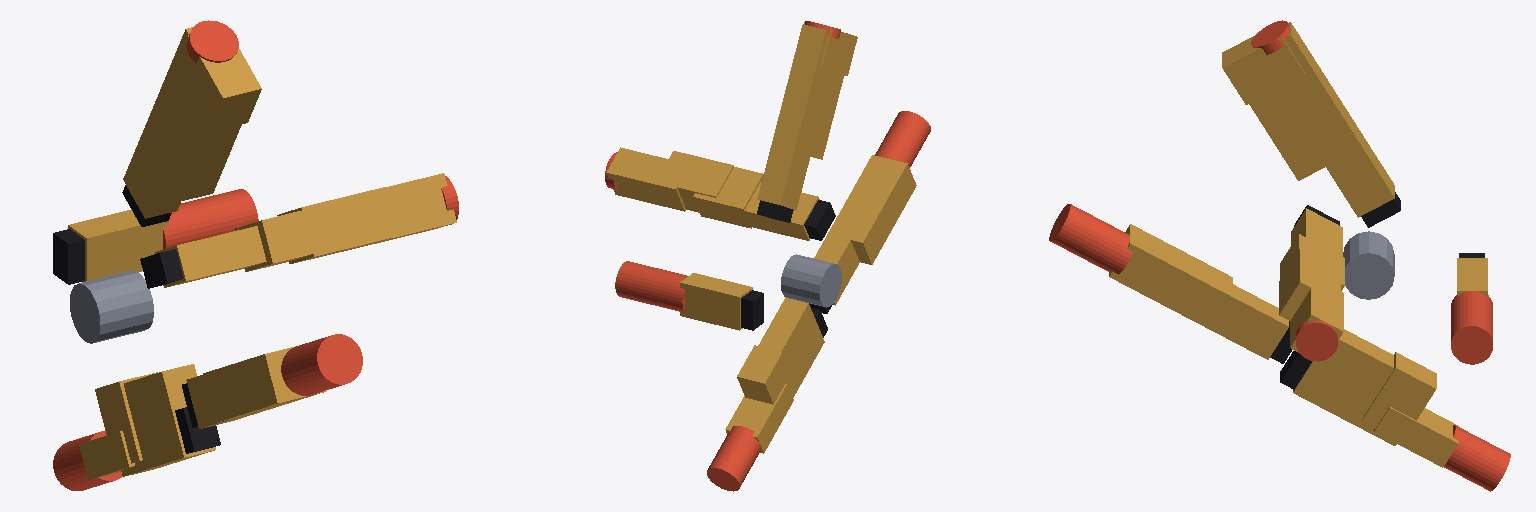
URDF robot description (g0009_c06):
<robot name="g0009_c06">
  <link name="palm">
    <visual name="palm_palm1">
      <origin xyz="0 0 0" rpy="0 0 0" />
      <geometry>
        <mesh filename="palm_palm1.obj" />
      </geometry>
      <material name="palm_palm1_mat">
        <color rgba="0.55 0.57 0.62 1" />
      </material>
    </visual>
    <collision>
      <origin xyz="0 0 0" rpy="0 0 0" />
      <geometry>
        <mesh filename="palm_palm1.obj" />
      </geometry>
    </collision>
    <visual name="palm_mount2">
      <origin xyz="0 0 0" rpy="0 0 0" />
      <geometry>
        <mesh filename="palm_mount2.obj" />
      </geometry>
      <material name="palm_mount2_mat">
        <color rgba="0.55 0.57 0.62 1" />
      </material>
    </visual>
    <collision>
      <origin xyz="0 0 0" rpy="0 0 0" />
      <geometry>
        <mesh filename="palm_mount2.obj" />
      </geometry>
    </collision>
    <visual name="palm_motor3">
      <origin xyz="0 -0.0735048095 -0.04375" rpy="-1.57079633 -1.04719755 1.57079633" />
      <geometry>
        <box size="0.029 0.034 0.02" />
      </geometry>
      <material name="palm_motor3_mat">
        <color rgba="0.15 0.15 0.17 1" />
      </material>
    </visual>
    <collision>
      <origin xyz="0 -0.0735048095 -0.04375" rpy="-1.57079633 -1.04719755 1.57079633" />
      <geometry>
        <box size="0.029 0.034 0.02" />
      </geometry>
    </collision>
    <visual name="palm_motor4">
      <origin xyz="0 -0.0464951905 -0.07625" rpy="1.57079633 1.04719755 -1.57079633" />
      <geometry>
        <box size="0.029 0.034 0.02" />
      </geometry>
      <material name="palm_motor4_mat">
        <color rgba="0.15 0.15 0.17 1" />
      </material>
    </visual>
    <collision>
      <origin xyz="0 -0.0464951905 -0.07625" rpy="1.57079633 1.04719755 -1.57079633" />
      <geometry>
        <box size="0.029 0.034 0.02" />
      </geometry>
    </collision>
    <visual name="palm_motor5">
      <origin xyz="-0.007 -0.04 0.04" rpy="-3.5352508e-17 0.523598776 1.57079633" />
      <geometry>
        <box size="0.029 0.034 0.02" />
      </geometry>
      <material name="palm_motor5_mat">
        <color rgba="0.15 0.15 0.17 1" />
      </material>
    </visual>
    <collision>
      <origin xyz="-0.007 -0.04 0.04" rpy="-3.5352508e-17 0.523598776 1.57079633" />
      <geometry>
        <box size="0.029 0.034 0.02" />
      </geometry>
    </collision>
    <visual name="palm_motor6">
      <origin xyz="0 0.00375 0.0735048095" rpy="-1.57079633 -0.523598776 1.57079633" />
      <geometry>
        <box size="0.029 0.034 0.02" />
      </geometry>
      <material name="palm_motor6_mat">
        <color rgba="0.15 0.15 0.17 1" />
      </material>
    </visual>
    <collision>
      <origin xyz="0 0.00375 0.0735048095" rpy="-1.57079633 -0.523598776 1.57079633" />
      <geometry>
        <box size="0.029 0.034 0.02" />
      </geometry>
    </collision>
    <visual name="palm_motor7">
      <origin xyz="-0.007 0.08 4.5924255e-19" rpy="1.57079633 -1.57079633 0" />
      <geometry>
        <box size="0.029 0.034 0.02" />
      </geometry>
      <material name="palm_motor7_mat">
        <color rgba="0.15 0.15 0.17 1" />
      </material>
    </visual>
    <collision>
      <origin xyz="-0.007 0.08 4.5924255e-19" rpy="1.57079633 -1.57079633 0" />
      <geometry>
        <box size="0.029 0.034 0.02" />
      </geometry>
    </collision>
    <inertial>
      <origin xyz="2.66907777e-19 -0.00514490469 -0.00359255006" rpy="-1.57079633 0.787043614 -1.57079633" />
      <mass value="0.925605386" />
      <inertia ixx="0.00129830695" ixy="0" ixz="0" iyy="0.00232753521" iyz="0" izz="0.00353698405" />
    </inertial>
  </link>
  <link name="f0_link0">
    <visual name="f0_link0_link1">
      <origin xyz="0.02375 0 0" rpy="0 7.03853194e-17 0" />
      <geometry>
        <box size="0.0715 0.024 0.033" />
      </geometry>
      <material name="f0_link0_link1_mat">
        <color rgba="0.80 0.62 0.30 1" />
      </material>
    </visual>
    <collision>
      <origin xyz="0.02375 0 0" rpy="0 7.03853194e-17 0" />
      <geometry>
        <box size="0.0715 0.024 0.033" />
      </geometry>
    </collision>
    <inertial>
      <origin xyz="0.02375 0 0" rpy="0 0 0" />
      <mass value="0.099099" />
      <inertia ixx="1.37499863e-05" ixy="0" ixz="0" iyy="5.12114728e-05" iyz="0" izz="4.69749906e-05" />
    </inertial>
  </link>
  <link name="f0_link1">
    <visual name="f0_link1_link1">
      <origin xyz="0.014 -0.00625 0" rpy="0 7.03853194e-17 0" />
      <geometry>
        <box size="0.052 0.0365 0.033" />
      </geometry>
      <material name="f0_link1_link1_mat">
        <color rgba="0.80 0.62 0.30 1" />
      </material>
    </visual>
    <collision>
      <origin xyz="0.014 -0.00625 0" rpy="0 7.03853194e-17 0" />
      <geometry>
        <box size="0.052 0.0365 0.033" />
      </geometry>
    </collision>
    <inertial>
      <origin xyz="0.014 -0.00625 0" rpy="0 0 0" />
      <mass value="0.1096095" />
      <inertia ixx="2.21160002e-05" ixy="0" ixz="0" iyy="3.46457361e-05" iyz="0" izz="3.6867612e-05" />
    </inertial>
  </link>
  <link name="f0_link2">
    <visual name="f0_link2_link1">
      <origin xyz="0.019 -0.00625 -1.38777878e-17" rpy="0 7.03853194e-17 0" />
      <geometry>
        <box size="0.062 0.0365 0.033" />
      </geometry>
      <material name="f0_link2_link1_mat">
        <color rgba="0.80 0.62 0.30 1" />
      </material>
    </visual>
    <collision>
      <origin xyz="0.019 -0.00625 -1.38777878e-17" rpy="0 7.03853194e-17 0" />
      <geometry>
        <box size="0.062 0.0365 0.033" />
      </geometry>
    </collision>
    <inertial>
      <origin xyz="0.019 -0.00625 0" rpy="0 0 0" />
      <mass value="0.13068825" />
      <inertia ixx="2.63690771e-05" ixy="0" ixz="0" iyy="5.37237614e-05" iyz="0" izz="5.63729212e-05" />
    </inertial>
  </link>
  <link name="f0_link3">
    <visual name="f0_link3_link1">
      <origin xyz="0.034 0 -1.38777878e-17" rpy="-1.57079633 -0 -1.57079633" />
      <geometry>
        <cylinder radius="0.0165" length="0.059" />
      </geometry>
      <material name="f0_link3_link1_mat">
        <color rgba="0.85 0.35 0.25 1" />
      </material>
    </visual>
    <collision>
      <origin xyz="0.034 0 -1.38777878e-17" rpy="-1.57079633 -0 -1.57079633" />
      <geometry>
        <cylinder radius="0.0165" length="0.059" />
      </geometry>
    </collision>
    <inertial>
      <origin xyz="0.034 0 0" rpy="0 0 0" />
      <mass value="0.121238577" />
      <inertia ixx="1.56071093e-05" ixy="0" ixz="0" iyy="7.58912764e-05" iyz="0" izz="7.58912764e-05" />
    </inertial>
  </link>
  <link name="f1_link0">
    <visual name="f1_link0_link1">
      <origin xyz="0.03375 0 -0.01225" rpy="0 2.57628149e-17 0" />
      <geometry>
        <box size="0.0915 0.024 0.0575" />
      </geometry>
      <material name="f1_link0_link1_mat">
        <color rgba="0.80 0.62 0.30 1" />
      </material>
    </visual>
    <collision>
      <origin xyz="0.03375 0 -0.01225" rpy="0 2.57628149e-17 0" />
      <geometry>
        <box size="0.0915 0.024 0.0575" />
      </geometry>
    </collision>
    <inertial>
      <origin xyz="0.03375 0 -0.01225" rpy="0 0 0" />
      <mass value="0.2209725" />
      <inertia ixx="7.14892073e-05" ixy="0" ixz="0" iyy="0.000215052278" iyz="0" izz="0.000164776431" />
    </inertial>
  </link>
  <link name="f1_link1">
    <visual name="f1_link1_link1">
      <origin xyz="-0.00625 0 -0.0165" rpy="0 2.57628149e-17 0" />
      <geometry>
        <box size="0.0365 0.029 0.053" />
      </geometry>
      <material name="f1_link1_link1_mat">
        <color rgba="0.80 0.62 0.30 1" />
      </material>
    </visual>
    <collision>
      <origin xyz="-0.00625 0 -0.0165" rpy="0 2.57628149e-17 0" />
      <geometry>
        <box size="0.0365 0.029 0.053" />
      </geometry>
    </collision>
    <inertial>
      <origin xyz="-0.00625 0 -0.0165" rpy="0 0 0" />
      <mass value="0.098175875" />
      <inertia ixx="2.98618286e-05" ixy="0" ixz="0" iyy="3.38809035e-05" iyz="0" izz="1.778006e-05" />
    </inertial>
  </link>
  <link name="f1_link2">
    <visual name="f1_link2_link1">
      <origin xyz="0.01875 0 -1.38777878e-17" rpy="0 2.57628149e-17 0" />
      <geometry>
        <box size="0.0615 0.033 0.024" />
      </geometry>
      <material name="f1_link2_link1_mat">
        <color rgba="0.80 0.62 0.30 1" />
      </material>
    </visual>
    <collision>
      <origin xyz="0.01875 0 -1.38777878e-17" rpy="0 2.57628149e-17 0" />
      <geometry>
        <box size="0.0615 0.033 0.024" />
      </geometry>
    </collision>
    <inertial>
      <origin xyz="0.01875 0 0" rpy="0 0 0" />
      <mass value="0.085239" />
      <inertia ixx="1.18269113e-05" ixy="0" ixz="0" iyy="3.09577393e-05" iyz="0" izz="3.46017066e-05" />
    </inertial>
  </link>
  <link name="f1_link3">
    <visual name="f1_link3_link1">
      <origin xyz="0.029 0 0" rpy="-1.57079633 -0 -1.57079633" />
      <geometry>
        <cylinder radius="0.0165" length="0.049" />
      </geometry>
      <material name="f1_link3_link1_mat">
        <color rgba="0.85 0.35 0.25 1" />
      </material>
    </visual>
    <collision>
      <origin xyz="0.029 0 0" rpy="-1.57079633 -0 -1.57079633" />
      <geometry>
        <cylinder radius="0.0165" length="0.049" />
      </geometry>
    </collision>
    <inertial>
      <origin xyz="0.029 0 0" rpy="0 0 0" />
      <mass value="0.106270851" />
      <inertia ixx="1.35696277e-05" ixy="0" ixz="0" iyy="5.30015704e-05" iyz="0" izz="5.30015704e-05" />
    </inertial>
  </link>
  <link name="f2_link0">
    <visual name="f2_link0_link1">
      <origin xyz="0.02875 0 0" rpy="7.03853194e-17 3.16228948e-33 -3.17589773e-34" />
      <geometry>
        <box size="0.0815 0.033 0.024" />
      </geometry>
      <material name="f2_link0_link1_mat">
        <color rgba="0.80 0.62 0.30 1" />
      </material>
    </visual>
    <collision>
      <origin xyz="0.02875 0 0" rpy="7.03853194e-17 3.16228948e-33 -3.17589773e-34" />
      <geometry>
        <box size="0.0815 0.033 0.024" />
      </geometry>
    </collision>
    <inertial>
      <origin xyz="0.02875 0 0" rpy="0 0 0" />
      <mass value="0.112959" />
      <inertia ixx="1.56730613e-05" ixy="0" ixz="0" iyy="6.79471918e-05" iyz="0" izz="7.27761891e-05" />
    </inertial>
  </link>
  <link name="f2_link1">
    <visual name="f2_link1_link1">
      <origin xyz="0.014 -0.004 -1.73472348e-18" rpy="7.03853194e-17 3.16228948e-33 -3.17589773e-34" />
      <geometry>
        <box size="0.052 0.041 0.029" />
      </geometry>
      <material name="f2_link1_link1_mat">
        <color rgba="0.80 0.62 0.30 1" />
      </material>
    </visual>
    <collision>
      <origin xyz="0.014 -0.004 -1.73472348e-18" rpy="7.03853194e-17 3.16228948e-33 -3.17589773e-34" />
      <geometry>
        <box size="0.052 0.041 0.029" />
      </geometry>
    </collision>
    <inertial>
      <origin xyz="0.014 -0.004 0" rpy="0 0 0" />
      <mass value="0.108199" />
      <inertia ixx="2.27398232e-05" ixy="0" ixz="0" iyy="3.19637879e-05" iyz="0" izz="3.95377179e-05" />
    </inertial>
  </link>
  <link name="f2_link2">
    <visual name="f2_link2_link1">
      <origin xyz="0.019 -0.00625 -1.73472348e-18" rpy="7.03853194e-17 3.16228948e-33 -3.17589773e-34" />
      <geometry>
        <box size="0.062 0.0365 0.033" />
      </geometry>
      <material name="f2_link2_link1_mat">
        <color rgba="0.80 0.62 0.30 1" />
      </material>
    </visual>
    <collision>
      <origin xyz="0.019 -0.00625 -1.73472348e-18" rpy="7.03853194e-17 3.16228948e-33 -3.17589773e-34" />
      <geometry>
        <box size="0.062 0.0365 0.033" />
      </geometry>
    </collision>
    <inertial>
      <origin xyz="0.019 -0.00625 0" rpy="0 0 0" />
      <mass value="0.13068825" />
      <inertia ixx="2.63690771e-05" ixy="0" ixz="0" iyy="5.37237614e-05" iyz="0" izz="5.63729212e-05" />
    </inertial>
  </link>
  <link name="f2_link3">
    <visual name="f2_link3_link1">
      <origin xyz="0.02375 0 0" rpy="7.03853194e-17 3.16228948e-33 -3.17589773e-34" />
      <geometry>
        <box size="0.0715 0.029 0.033" />
      </geometry>
      <material name="f2_link3_link1_mat">
        <color rgba="0.80 0.62 0.30 1" />
      </material>
    </visual>
    <collision>
      <origin xyz="0.02375 0 0" rpy="7.03853194e-17 3.16228948e-33 -3.17589773e-34" />
      <geometry>
        <box size="0.0715 0.029 0.033" />
      </geometry>
    </collision>
    <inertial>
      <origin xyz="0.02375 0 0" rpy="0 0 0" />
      <mass value="0.119744625" />
      <inertia ixx="1.92589272e-05" ixy="0" ixz="0" iyy="6.18805296e-05" iyz="0" izz="5.94058074e-05" />
    </inertial>
  </link>
  <link name="f2_link4">
    <visual name="f2_link4_link1">
      <origin xyz="0.009 6.9388939e-18 0" rpy="-1.57079633 -0 -1.57079633" />
      <geometry>
        <cylinder radius="0.0165" length="0.009" />
      </geometry>
      <material name="f2_link4_link1_mat">
        <color rgba="0.85 0.35 0.25 1" />
      </material>
    </visual>
    <collision>
      <origin xyz="0.009 6.9388939e-18 0" rpy="-1.57079633 -0 -1.57079633" />
      <geometry>
        <cylinder radius="0.0165" length="0.009" />
      </geometry>
    </collision>
    <inertial>
      <origin xyz="0.009 0 0" rpy="0 0 0" />
      <mass value="0.046399949" />
      <inertia ixx="5.41970115e-06" ixy="0" ixz="0" iyy="7.09430898e-06" iyz="0" izz="7.09430898e-06" />
    </inertial>
  </link>
  <link name="f3_link0">
    <visual name="f3_link0_link1">
      <origin xyz="0.02375 0 0" rpy="0 3.98552134e-18 0" />
      <geometry>
        <box size="0.0715 0.024 0.033" />
      </geometry>
      <material name="f3_link0_link1_mat">
        <color rgba="0.80 0.62 0.30 1" />
      </material>
    </visual>
    <collision>
      <origin xyz="0.02375 0 0" rpy="0 3.98552134e-18 0" />
      <geometry>
        <box size="0.0715 0.024 0.033" />
      </geometry>
    </collision>
    <inertial>
      <origin xyz="0.02375 0 0" rpy="0 0 0" />
      <mass value="0.099099" />
      <inertia ixx="1.37499863e-05" ixy="0" ixz="0" iyy="5.12114728e-05" iyz="0" izz="4.69749906e-05" />
    </inertial>
  </link>
  <link name="f3_link1">
    <visual name="f3_link1_link1">
      <origin xyz="0.04375 0 -0.01225" rpy="0 3.98552134e-18 0" />
      <geometry>
        <box size="0.1115 0.024 0.0575" />
      </geometry>
      <material name="f3_link1_link1_mat">
        <color rgba="0.80 0.62 0.30 1" />
      </material>
    </visual>
    <collision>
      <origin xyz="0.04375 0 -0.01225" rpy="0 3.98552134e-18 0" />
      <geometry>
        <box size="0.1115 0.024 0.0575" />
      </geometry>
    </collision>
    <inertial>
      <origin xyz="0.04375 0 -0.01225" rpy="0 0 0" />
      <mass value="0.2692725" />
      <inertia ixx="8.71152636e-05" ixy="0" ixz="0" iyy="0.000353162103" iyz="0" izz="0.000291897" />
    </inertial>
  </link>
  <link name="f3_link2">
    <visual name="f3_link2_link1">
      <origin xyz="-0.00625 0 -0.0165" rpy="0 3.98552134e-18 0" />
      <geometry>
        <box size="0.0365 0.029 0.053" />
      </geometry>
      <material name="f3_link2_link1_mat">
        <color rgba="0.80 0.62 0.30 1" />
      </material>
    </visual>
    <collision>
      <origin xyz="-0.00625 0 -0.0165" rpy="0 3.98552134e-18 0" />
      <geometry>
        <box size="0.0365 0.029 0.053" />
      </geometry>
    </collision>
    <inertial>
      <origin xyz="-0.00625 0 -0.0165" rpy="0 0 0" />
      <mass value="0.098175875" />
      <inertia ixx="2.98618286e-05" ixy="0" ixz="0" iyy="3.38809035e-05" iyz="0" izz="1.778006e-05" />
    </inertial>
  </link>
  <link name="f3_link3">
    <visual name="f3_link3_link1">
      <origin xyz="0.009 0 3.46944695e-18" rpy="-1.57079633 -0 -1.57079633" />
      <geometry>
        <cylinder radius="0.0165" length="0.009" />
      </geometry>
      <material name="f3_link3_link1_mat">
        <color rgba="0.85 0.35 0.25 1" />
      </material>
    </visual>
    <collision>
      <origin xyz="0.009 0 3.46944695e-18" rpy="-1.57079633 -0 -1.57079633" />
      <geometry>
        <cylinder radius="0.0165" length="0.009" />
      </geometry>
    </collision>
    <inertial>
      <origin xyz="0.009 0 0" rpy="0 0 0" />
      <mass value="0.046399949" />
      <inertia ixx="5.41970115e-06" ixy="0" ixz="0" iyy="7.09430898e-06" iyz="0" izz="7.09430898e-06" />
    </inertial>
  </link>
  <link name="f4_link0">
    <visual name="f4_link0_link1">
      <origin xyz="0.01875 0 0" rpy="0 -3.00807789e-49 0" />
      <geometry>
        <box size="0.0615 0.033 0.024" />
      </geometry>
      <material name="f4_link0_link1_mat">
        <color rgba="0.80 0.62 0.30 1" />
      </material>
    </visual>
    <collision>
      <origin xyz="0.01875 0 0" rpy="0 -3.00807789e-49 0" />
      <geometry>
        <box size="0.0615 0.033 0.024" />
      </geometry>
    </collision>
    <inertial>
      <origin xyz="0.01875 0 0" rpy="0 0 0" />
      <mass value="0.085239" />
      <inertia ixx="1.18269113e-05" ixy="0" ixz="0" iyy="3.09577393e-05" iyz="0" izz="3.46017066e-05" />
    </inertial>
  </link>
  <link name="f4_link1">
    <visual name="f4_link1_link1">
      <origin xyz="0.039 0 0" rpy="-1.57079633 -0 -1.57079633" />
      <geometry>
        <cylinder radius="0.0165" length="0.069" />
      </geometry>
      <material name="f4_link1_link1_mat">
        <color rgba="0.85 0.35 0.25 1" />
      </material>
    </visual>
    <collision>
      <origin xyz="0.039 0 0" rpy="-1.57079633 -0 -1.57079633" />
      <geometry>
        <cylinder radius="0.0165" length="0.069" />
      </geometry>
    </collision>
    <inertial>
      <origin xyz="0.039 0 0" rpy="0 0 0" />
      <mass value="0.136206302" />
      <inertia ixx="1.76445909e-05" ixy="0" ixz="0" iyy="0.000104842911" iyz="0" izz="0.000104842911" />
    </inertial>
  </link>
  <joint name="f0_j0" type="revolute">
    <parent link="palm" />
    <child link="f0_link0" />
    <origin xyz="0 -0.08 -0.04" rpy="-0 -0.523598776 -1.57079633" />
    <axis xyz="0 0 1" />
    <limit effort="0.5" lower="-0.523598776" upper="1.57079633" velocity="5" />
    <dynamics damping="0.0775033" friction="0" />
  </joint>
  <joint name="f0_j1" type="revolute">
    <parent link="f0_link0" />
    <child link="f0_link1" />
    <origin xyz="0.05 0 0" rpy="0 0 0" />
    <axis xyz="0 0 1" />
    <limit effort="0.5" lower="-0.523598776" upper="1.57079633" velocity="5" />
    <dynamics damping="0.0775033" friction="0" />
  </joint>
  <joint name="f0_j2" type="revolute">
    <parent link="f0_link1" />
    <child link="f0_link2" />
    <origin xyz="0.03 0 0" rpy="0 0 0" />
    <axis xyz="0 0 1" />
    <limit effort="0.5" lower="-0.523598776" upper="1.57079633" velocity="5" />
    <dynamics damping="0.0775033" friction="0" />
  </joint>
  <joint name="f0_j3" type="revolute">
    <parent link="f0_link2" />
    <child link="f0_link3" />
    <origin xyz="0.04 0 0" rpy="0 0 0" />
    <axis xyz="0 0 1" />
    <limit effort="0.5" lower="-0.523598776" upper="1.57079633" velocity="5" />
    <dynamics damping="0.0775033" friction="0" />
  </joint>
  <joint name="f1_j0" type="revolute">
    <parent link="palm" />
    <child link="f1_link0" />
    <origin xyz="0 -0.04 -0.08" rpy="3.14159265 0.523598776 1.57079633" />
    <axis xyz="0 0 1" />
    <limit effort="0.5" lower="-0.523598776" upper="1.57079633" velocity="5" />
    <dynamics damping="0.0775033" friction="0" />
  </joint>
  <joint name="f1_j1" type="revolute">
    <parent link="f1_link0" />
    <child link="f1_link1" />
    <origin xyz="0.07 0 0" rpy="0 0 0" />
    <axis xyz="0 0 1" />
    <limit effort="0.5" lower="-0.523598776" upper="1.57079633" velocity="5" />
    <dynamics damping="0.0775033" friction="0" />
  </joint>
  <joint name="f1_j2" type="revolute">
    <parent link="f1_link1" />
    <child link="f1_link2" />
    <origin xyz="0 0 0" rpy="0 0 0" />
    <axis xyz="0 1 6.123234e-17" />
    <limit effort="0.5" lower="-0.523598776" upper="0.523598776" velocity="5" />
    <dynamics damping="0.0775033" friction="0" />
  </joint>
  <joint name="f1_j3" type="revolute">
    <parent link="f1_link2" />
    <child link="f1_link3" />
    <origin xyz="0.04 0 0" rpy="0 0 0" />
    <axis xyz="0 1 6.123234e-17" />
    <limit effort="0.5" lower="-0.523598776" upper="0.523598776" velocity="5" />
    <dynamics damping="0.0775033" friction="0" />
  </joint>
  <joint name="f2_j0" type="revolute">
    <parent link="palm" />
    <child link="f2_link0" />
    <origin xyz="0.0005 -0.04 0.04" rpy="-0.523598776 -3.061617e-17 -5.30287619e-17" />
    <axis xyz="-0 -1 -6.123234e-17" />
    <limit effort="0.5" lower="-0.523598776" upper="0.523598776" velocity="5" />
    <dynamics damping="0.0775033" friction="0" />
  </joint>
  <joint name="f2_j1" type="revolute">
    <parent link="f2_link0" />
    <child link="f2_link1" />
    <origin xyz="0.06 0 0" rpy="0 0 0" />
    <axis xyz="-0 -1 -6.123234e-17" />
    <limit effort="0.5" lower="-0.523598776" upper="0.523598776" velocity="5" />
    <dynamics damping="0.0775033" friction="0" />
  </joint>
  <joint name="f2_j2" type="revolute">
    <parent link="f2_link1" />
    <child link="f2_link2" />
    <origin xyz="0.03 0 0" rpy="0 0 0" />
    <axis xyz="0 0 1" />
    <limit effort="0.5" lower="-0.523598776" upper="1.57079633" velocity="5" />
    <dynamics damping="0.0775033" friction="0" />
  </joint>
  <joint name="f2_j3" type="revolute">
    <parent link="f2_link2" />
    <child link="f2_link3" />
    <origin xyz="0.04 0 0" rpy="0 0 0" />
    <axis xyz="0 0 1" />
    <limit effort="0.5" lower="-0.523598776" upper="1.57079633" velocity="5" />
    <dynamics damping="0.0775033" friction="0" />
  </joint>
  <joint name="f2_j4" type="revolute">
    <parent link="f2_link3" />
    <child link="f2_link4" />
    <origin xyz="0.05 0 0" rpy="0 0 0" />
    <axis xyz="-0 -1 -6.123234e-17" />
    <limit effort="0.5" lower="-0.523598776" upper="0.523598776" velocity="5" />
    <dynamics damping="0.0775033" friction="0" />
  </joint>
  <joint name="f3_j0" type="revolute">
    <parent link="palm" />
    <child link="f3_link0" />
    <origin xyz="0 0 0.08" rpy="-0 -1.04719755 -1.57079633" />
    <axis xyz="0 0 1" />
    <limit effort="0.5" lower="-0.523598776" upper="1.57079633" velocity="5" />
    <dynamics damping="0.0775033" friction="0" />
  </joint>
  <joint name="f3_j1" type="revolute">
    <parent link="f3_link0" />
    <child link="f3_link1" />
    <origin xyz="0.05 0 0" rpy="0 0 0" />
    <axis xyz="0 0 1" />
    <limit effort="0.5" lower="-0.523598776" upper="1.57079633" velocity="5" />
    <dynamics damping="0.0775033" friction="0" />
  </joint>
  <joint name="f3_j2" type="revolute">
    <parent link="f3_link1" />
    <child link="f3_link2" />
    <origin xyz="0.09 0 0" rpy="0 0 0" />
    <axis xyz="0 0 1" />
    <limit effort="0.5" lower="-0.523598776" upper="1.57079633" velocity="5" />
    <dynamics damping="0.0775033" friction="0" />
  </joint>
  <joint name="f3_j3" type="revolute">
    <parent link="f3_link2" />
    <child link="f3_link3" />
    <origin xyz="0 0 0" rpy="0 0 0" />
    <axis xyz="-0 -1 -6.123234e-17" />
    <limit effort="0.5" lower="-0.523598776" upper="0.523598776" velocity="5" />
    <dynamics damping="0.0775033" friction="0" />
  </joint>
  <joint name="f4_j0" type="revolute">
    <parent link="palm" />
    <child link="f4_link0" />
    <origin xyz="0.0005 0.08 0" rpy="1.57079633 6.123234e-17 7.49879891e-33" />
    <axis xyz="0 1 6.123234e-17" />
    <limit effort="0.5" lower="-0.523598776" upper="0.523598776" velocity="5" />
    <dynamics damping="0.0775033" friction="0" />
  </joint>
  <joint name="f4_j1" type="revolute">
    <parent link="f4_link0" />
    <child link="f4_link1" />
    <origin xyz="0.04 0 0" rpy="0 0 0" />
    <axis xyz="0 1 6.123234e-17" />
    <limit effort="0.5" lower="-0.523598776" upper="0.523598776" velocity="5" />
    <dynamics damping="0.0775033" friction="0" />
  </joint>
</robot>

--- Facts derived from the render (not from the file) ---
The picture shows the robot from 3 angles, left to right: view 1: azimuth 30°, elevation 25°; view 2: azimuth 150°, elevation 25°; view 3: azimuth 270°, elevation 25°; orthographic projection.
Robot: g0009_c06 — 20 links, 19 joints (19 revolute); root link palm; default pose: every joint at zero.
Links seen in each view (by area): view 1: palm, f3_link1, f1_link0, f3_link2, f4_link0, f2_link2, f0_link3, f4_link1, f2_link0, f3_link0, f2_link3, f2_link1 (+7 smaller); view 2: f3_link1, palm, f2_link3, f1_link0, f3_link0, f4_link0, f0_link2, f0_link1, f4_link1, f1_link1, f1_link3, f2_link1 (+6 smaller); view 3: f3_link1, f1_link0, palm, f3_link0, f0_link0, f0_link3, f3_link2, f0_link2, f1_link2, f1_link1, f4_link1, f0_link1 (+8 smaller).
Boxes of the visible links, box(x1,y1,x2,y2) form: palm: box(53, 185, 220, 453); f3_link1: box(151, 27, 241, 200); f1_link0: box(121, 364, 215, 476); f3_link2: box(174, 35, 261, 131); f4_link0: box(68, 209, 168, 281); f2_link2: box(277, 187, 396, 263); f0_link3: box(281, 334, 362, 395); f4_link1: box(163, 189, 258, 248); f2_link0: box(155, 226, 266, 287); f3_link0: box(123, 113, 180, 218); f2_link3: box(343, 173, 456, 251); f2_link1: box(234, 211, 342, 271); f3_link1: box(772, 24, 843, 159); palm: box(741, 200, 841, 337); f2_link3: box(606, 147, 689, 211); f1_link0: box(758, 297, 824, 397); f3_link0: box(757, 122, 816, 209); f4_link0: box(680, 273, 752, 330); f0_link2: box(842, 155, 916, 234); f0_link1: box(829, 190, 894, 264); f4_link1: box(615, 261, 687, 311); f1_link1: box(737, 345, 796, 404); f1_link3: box(707, 426, 760, 491); f2_link1: box(693, 167, 763, 228); f3_link1: box(1249, 22, 1362, 180); f1_link0: box(1293, 329, 1396, 445); palm: box(1270, 192, 1484, 389); f3_link0: box(1312, 114, 1394, 217); f0_link0: box(1188, 272, 1288, 359); f0_link3: box(1049, 204, 1132, 274); f3_link2: box(1222, 36, 1304, 104); f0_link2: box(1109, 224, 1197, 311); f1_link2: box(1374, 407, 1458, 467); f1_link1: box(1362, 352, 1436, 428); f4_link1: box(1451, 291, 1492, 364); f0_link1: box(1157, 247, 1232, 330).
Size in the robot's own frame: 0.246 by 0.357 by 0.3972 metres.
1 mesh visuals loaded from 2 distinct referenced files (1 OBJ); not drawn: 1 (reference not matched to a file when rendering).
